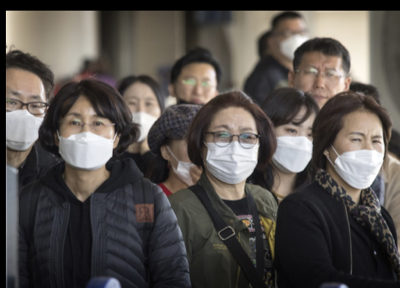with_mask: (53, 109, 113, 172), (203, 121, 258, 180), (329, 128, 382, 189), (4, 89, 45, 149), (269, 119, 313, 174), (120, 94, 158, 142)
without_mask: (294, 60, 346, 110), (172, 70, 217, 107)
